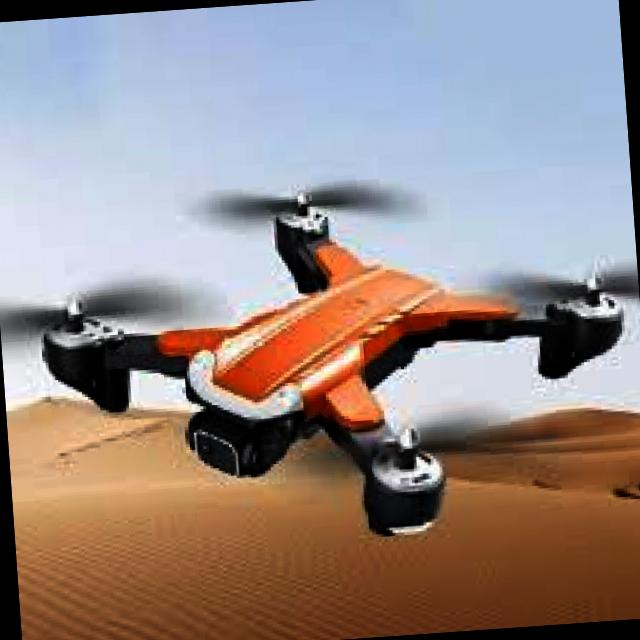drone: (0, 122, 640, 562)
